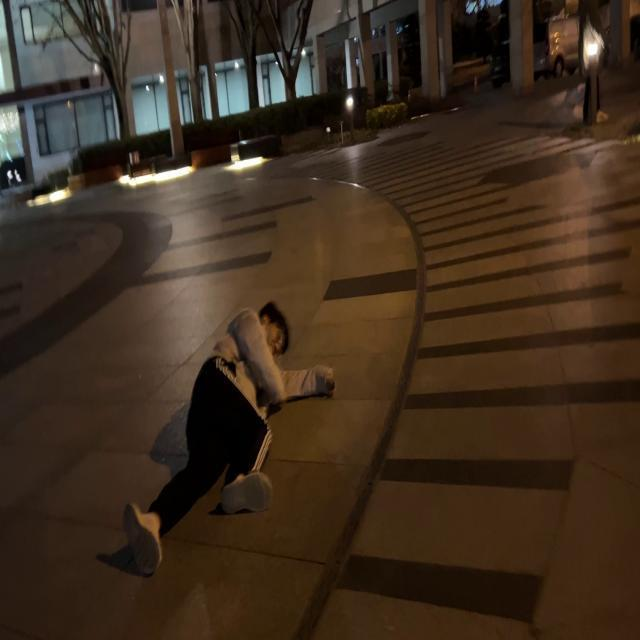Fall: (123, 302, 335, 576)
